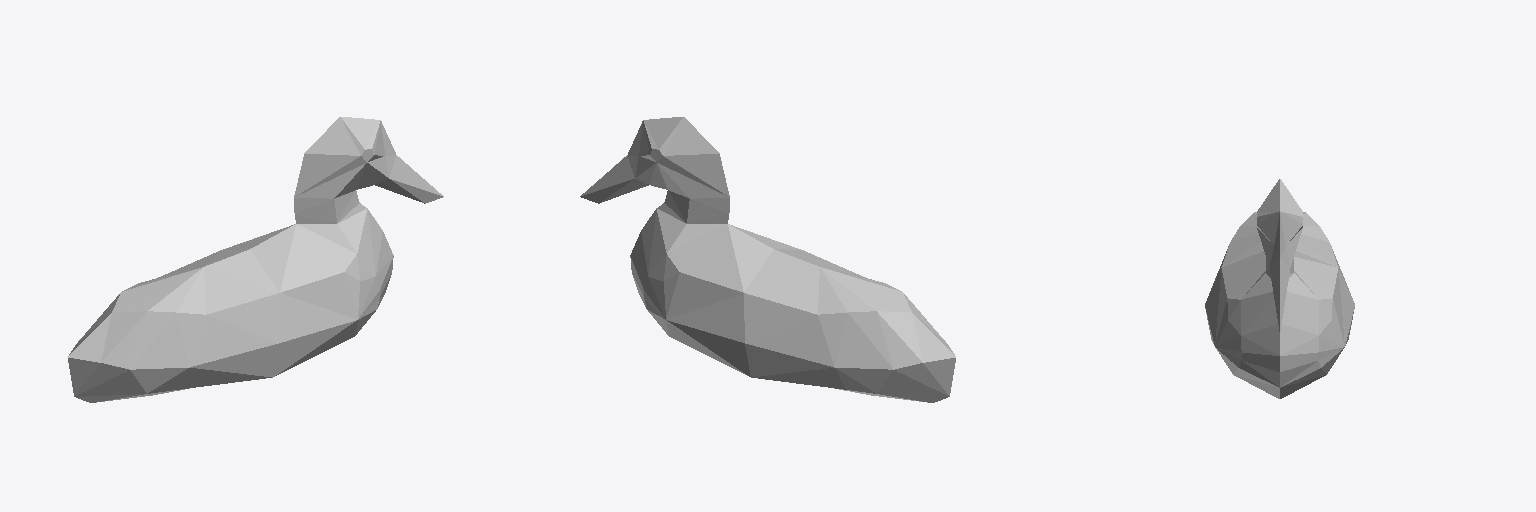
File: fixed-duck.obj
3 renders of one model, left to right at view 1: azimuth 30°, elevation 25°; view 2: azimuth 150°, elevation 25°; view 3: azimuth 270°, elevation 25°, orthographic.
Visible parts, largest first — view 1: Cube_Cube.001; view 2: Cube_Cube.001; view 3: Cube_Cube.001.
Boxes of the visible parts, box(x1,y1,x2,y2) form: Cube_Cube.001: box(68, 117, 443, 402); Cube_Cube.001: box(580, 117, 955, 402); Cube_Cube.001: box(1205, 179, 1354, 398).
Bounding box in the file's own units: 1.34 × 0.812 × 0.4652.